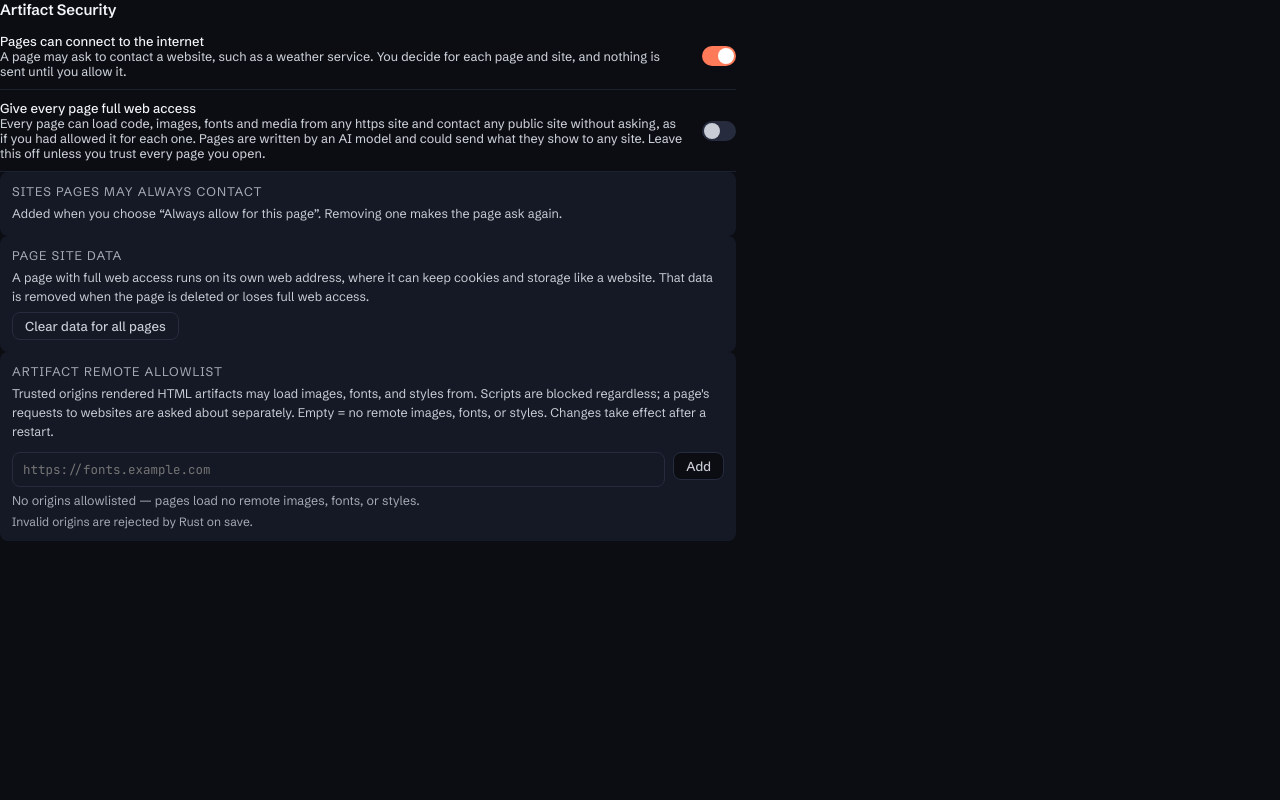
Test: ArtifactSecuritySection page site data › "Clear data for all pages" asks first, then clears and says so
Click the button "Clear data for all pages": (95, 326) [12,312,179,340]
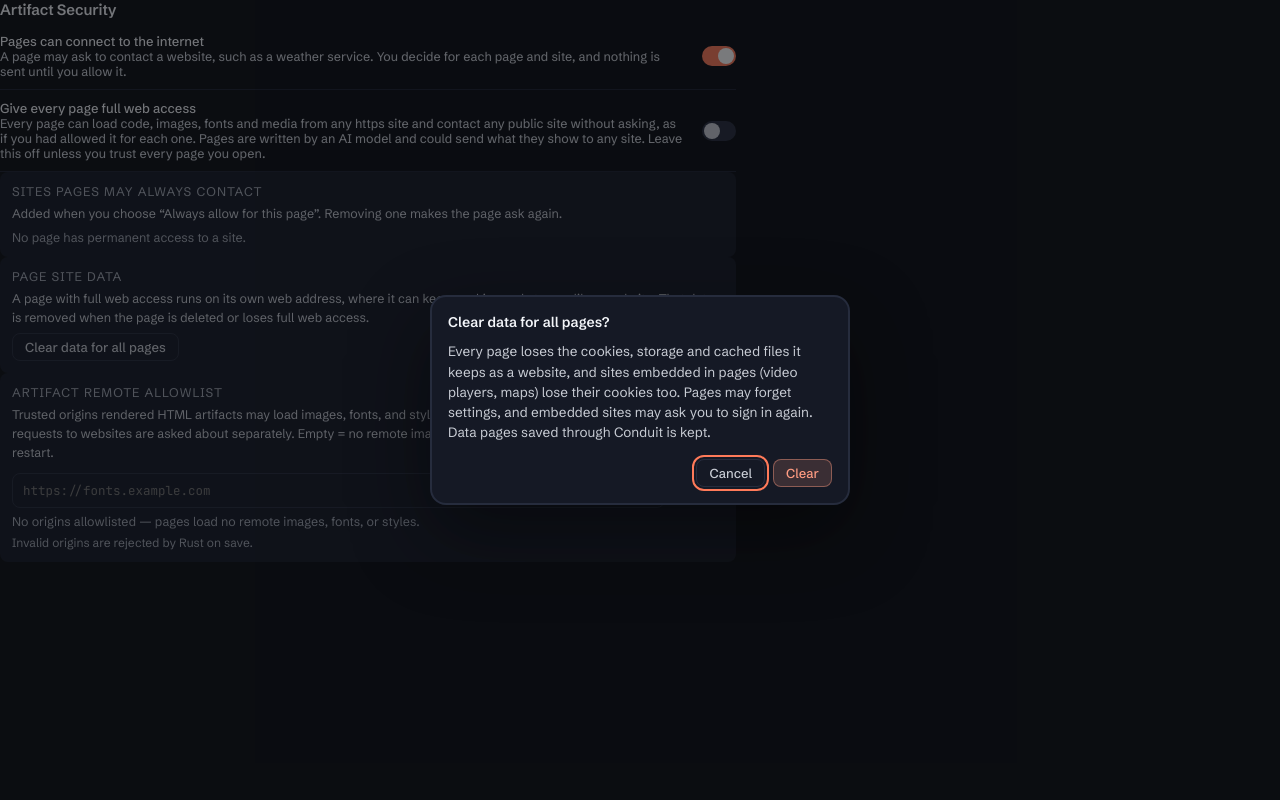
Now the heading "Clear data for all pages?" is shown, box [448,313,610,331]
Click the button "Clear": (802, 473) [773,459,832,487]
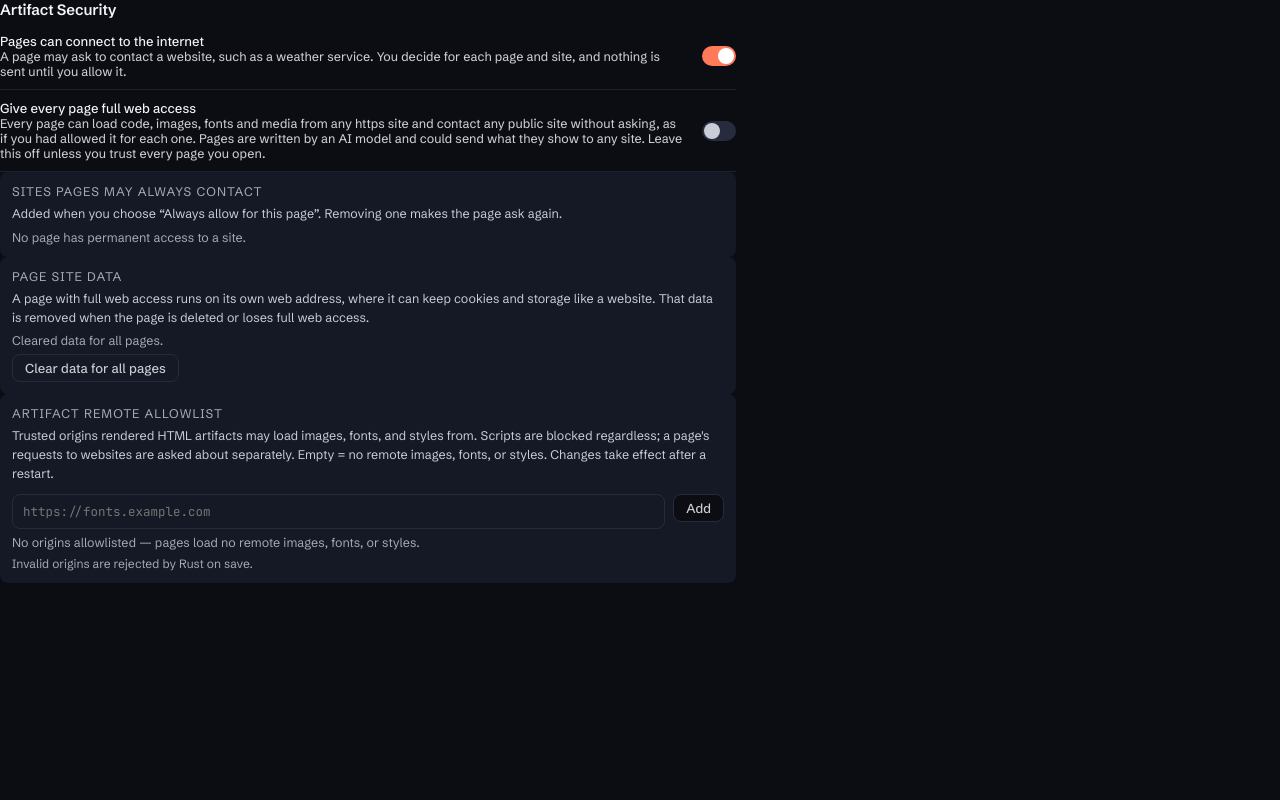
Now the text "Cleared data for all pages." is shown, box [12,333,163,348]
